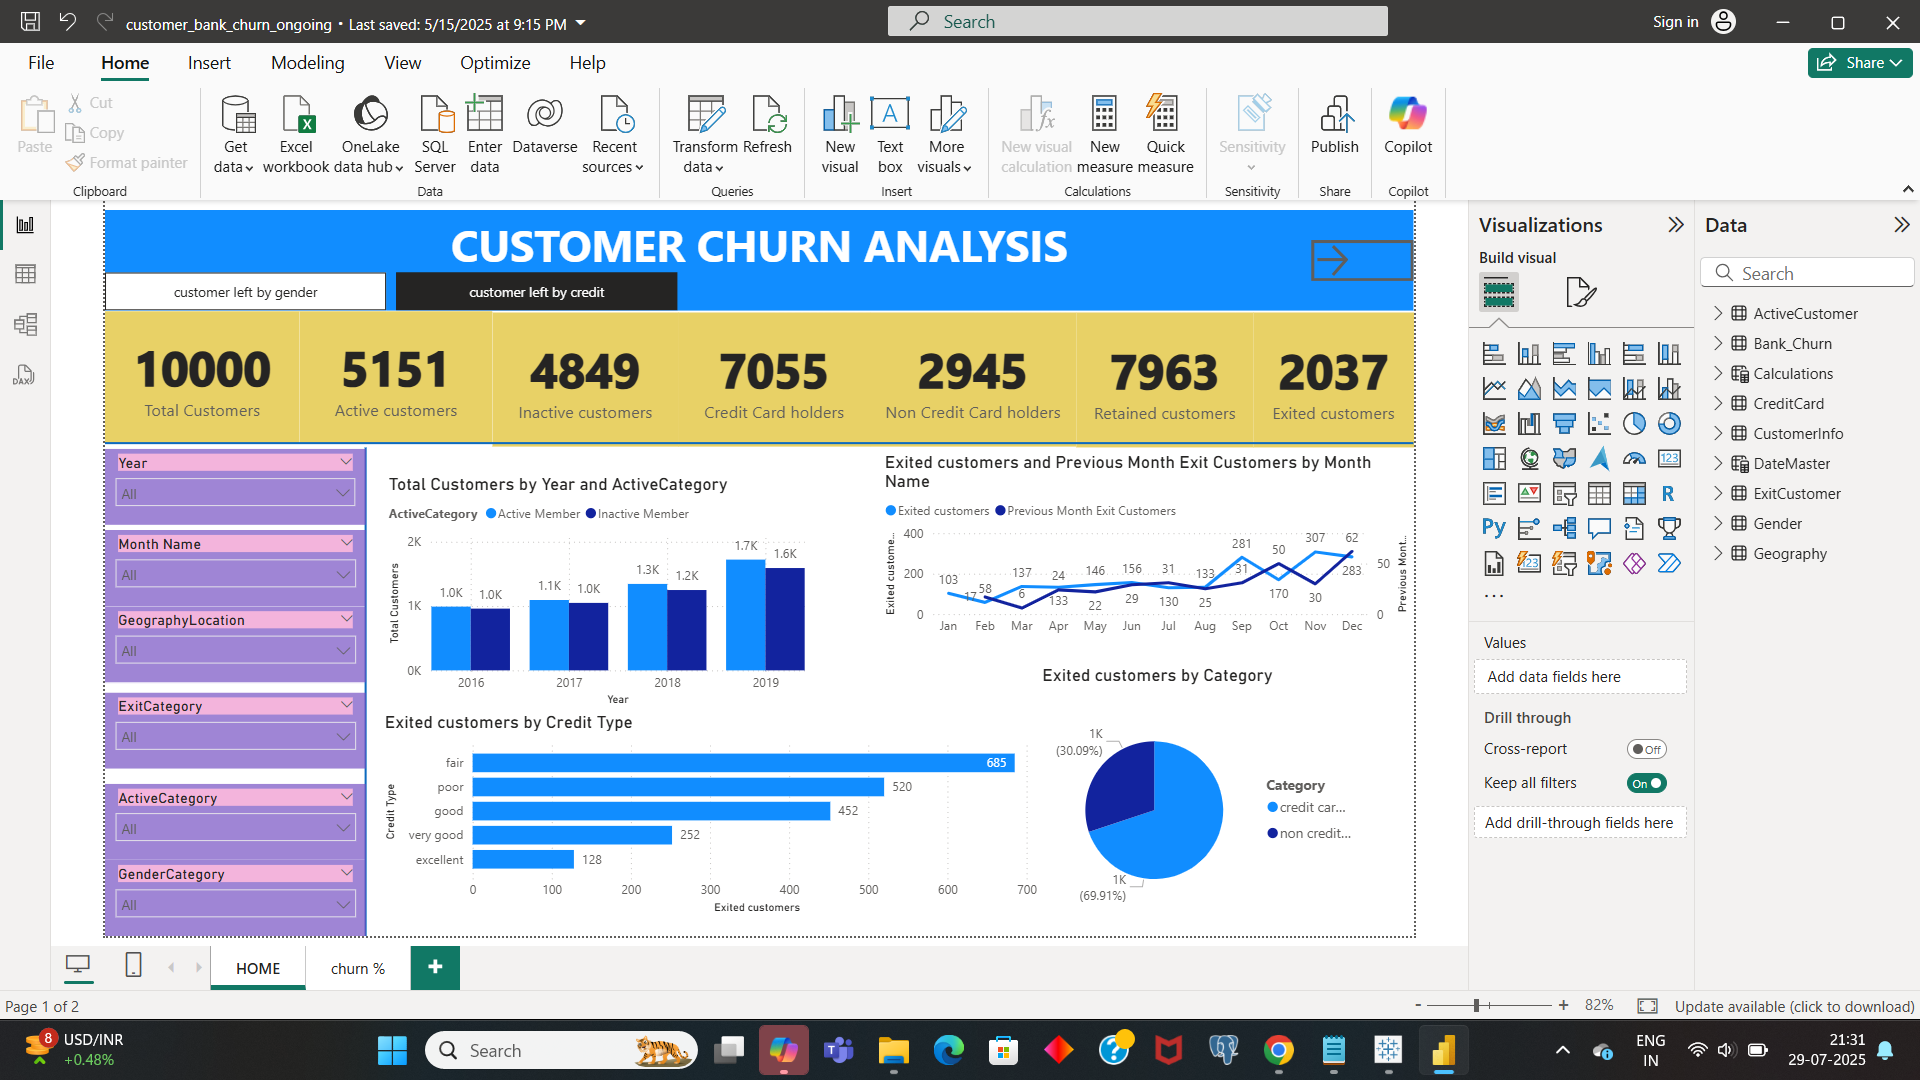

What the dashboard file says about the page in this screenshot:
{"tool":"powerbi","page":{"name":"HOME","canvas":[1280,720],"ordinal":0},"visuals":[{"type":"card","fields":{"Values":["Calculations.Total Customers"]},"box":[0,108.8,190.8,129.6],"z":0},{"type":"card","fields":{"Values":["Calculations.Active customers"]},"box":[190.8,108.8,188.3,129.6],"z":1000},{"type":"card","fields":{"Values":["Calculations.Inactive customers"]},"box":[379.1,110.1,182.2,130.8],"z":2000},{"type":"card","fields":{"Values":["Calculations.Credit Card holders"]},"box":[561.3,110.1,187.1,130.8],"z":3000},{"type":"card","fields":{"Values":["Calculations.Non Credit Card holders"]},"box":[748.4,110.1,201.8,130.8],"z":4000},{"type":"textbox","box":[0,9.6,1280.3,98.8],"z":5000},{"type":"card","fields":{"Values":["Calculations.Exited customers"]},"box":[1123.8,110.1,156.5,132.1],"z":6000},{"type":"card","fields":{"Values":["Calculations.Retained customers"]},"box":[950.1,110.1,173.6,132.1],"z":7000},{"type":"shape","box":[0,162.6,1280.3,150.4],"z":8000},{"type":"shape","box":[0,242.1,509.9,478.1],"z":9000},{"type":"slicer","fields":{"Values":["DateMaster.Year"]},"box":[0,242.8,255,74.8],"z":10000},{"type":"slicer","fields":{"Values":["DateMaster.Month Name"]},"box":[0,322.8,255.6,74.6],"z":11000},{"type":"slicer","fields":{"Values":["Geography.GeographyLocation"]},"box":[0,397.4,255.6,74.6],"z":12000},{"type":"slicer","fields":{"Values":["ExitCustomer.ExitCategory"]},"box":[0,481.8,255.6,74.6],"z":13000},{"type":"slicer","fields":{"Values":["ActiveCustomer.ActiveCategory"]},"box":[0,571.1,255.6,74.6],"z":14000},{"type":"slicer","fields":{"Values":["Gender.GenderCategory"]},"box":[0,645.7,255.6,74.6],"z":15000},{"type":"clusteredColumnChart","fields":{"Category":["DateMaster.Year","DateMaster.Month Name"],"Y":["Calculations.Total Customers"],"Series":["ActiveCustomer.ActiveCategory"]},"box":[272.7,267.8,417,232.3],"z":16000},{"type":"lineChart","fields":{"Y2":["Calculations.Previous Month Exit Customers"],"Y":["Calculations.Exited customers"],"Category":["DateMaster.Month Name"]},"box":[758.2,245.8,522.1,189.5],"z":17000},{"type":"donutChart","fields":{"Y":["Calculations.Exited customers"],"Category":["Gender.GenderCategory"]},"box":[297.9,500.3,342.7,209.7],"z":18000},{"type":"pieChart","fields":{"Y":["Calculations.Exited customers"],"Category":["CreditCard.Category"]},"box":[912.2,454.9,322.8,265.4],"z":20000},{"type":"actionButton","box":[1180,39.1,100.3,40.4],"z":21000},{"type":"bookmarkNavigator","box":[0,0,600,50],"z":22000}]}

Visuals, with their boxes on the page's 1280x720 design canvas (x1, y1, x2, y2). These are canvas units, not pixel positions in the 1920x1080 screenshot, which may show the page scaled, cropped or inside an application window:
card - Calculations.Total Customers: 0, 109, 191, 238
card - Calculations.Active customers: 191, 109, 379, 238
card - Calculations.Inactive customers: 379, 110, 561, 241
card - Calculations.Credit Card holders: 561, 110, 748, 241
card - Calculations.Non Credit Card holders: 748, 110, 950, 241
textbox: 0, 10, 1280, 108
card - Calculations.Exited customers: 1124, 110, 1280, 242
card - Calculations.Retained customers: 950, 110, 1124, 242
shape: 0, 163, 1280, 313
shape: 0, 242, 510, 720
slicer - DateMaster.Year: 0, 243, 255, 318
slicer - DateMaster.Month Name: 0, 323, 256, 397
slicer - Geography.GeographyLocation: 0, 397, 256, 472
slicer - ExitCustomer.ExitCategory: 0, 482, 256, 556
slicer - ActiveCustomer.ActiveCategory: 0, 571, 256, 646
slicer - Gender.GenderCategory: 0, 646, 256, 720
clusteredColumnChart - DateMaster.Year x DateMaster.Month Name: 273, 268, 690, 500
lineChart - Calculations.Previous Month Exit Customers x Calculations.Exited customers: 758, 246, 1280, 435
donutChart - Calculations.Exited customers x Gender.GenderCategory: 298, 500, 641, 710
pieChart - Calculations.Exited customers x CreditCard.Category: 912, 455, 1235, 720
actionButton: 1180, 39, 1280, 80
bookmarkNavigator: 0, 0, 600, 50
